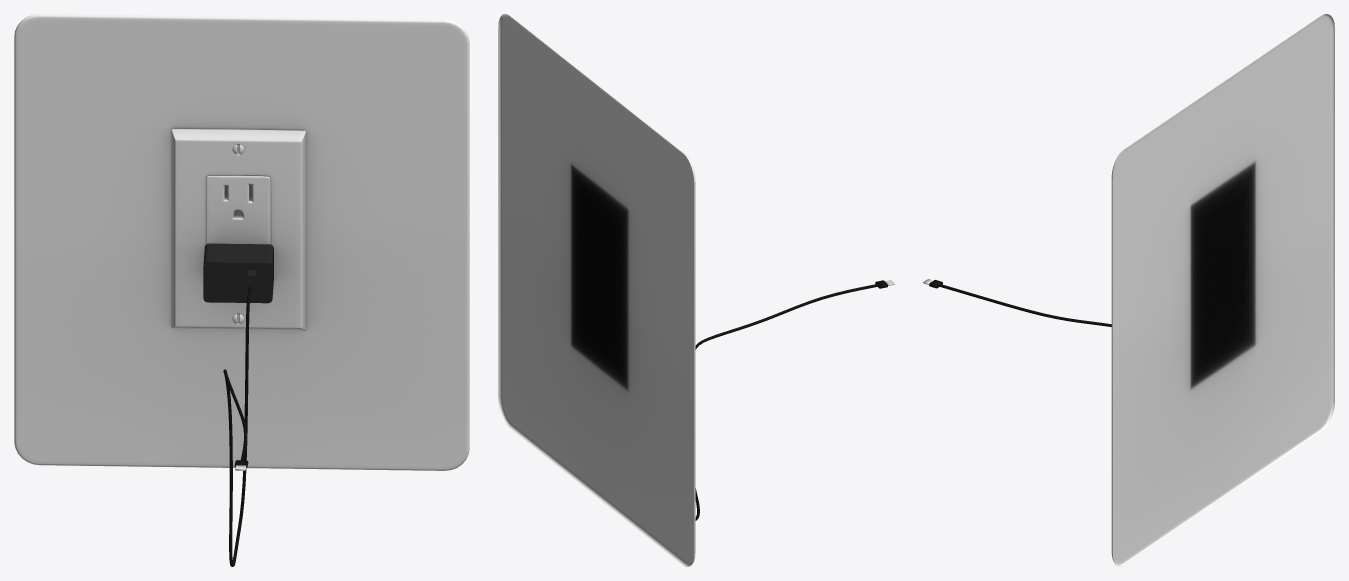
Rendered from Phone_Charger_Model_Power_Cable_Wall_AO_Model.glb.
The picture shows the model from 3 angles, left to right: view 1: azimuth 30°, elevation 25°; view 2: azimuth 150°, elevation 25°; view 3: azimuth 270°, elevation 25°; orthographic projection. The views are drawn at different scales.
Visible parts, largest first — view 1: Cube.003, Cube.012, Cube.015, Cube.009; view 2: Cube.003, Cube.009; view 3: Cube.003, Cube.009.
Part boxes in pixels (bbox=[...]): Cube.003: bbox=[14, 14, 469, 470]; Cube.012: bbox=[171, 129, 305, 330]; Cube.015: bbox=[203, 243, 273, 303]; Cube.009: bbox=[223, 286, 251, 566]; Cube.003: bbox=[498, 14, 695, 566]; Cube.009: bbox=[695, 284, 878, 520]; Cube.003: bbox=[1111, 14, 1334, 566]; Cube.009: bbox=[938, 284, 1111, 326].
Size of the model in its own units: 17.48 by 24.89 by 20.15.
Materials: 5 (2 with a texture image).
